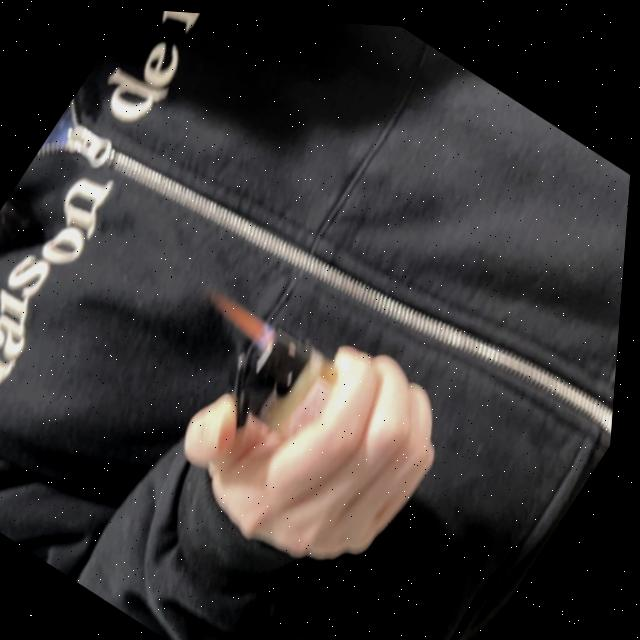Fire: (198, 277, 288, 350)
